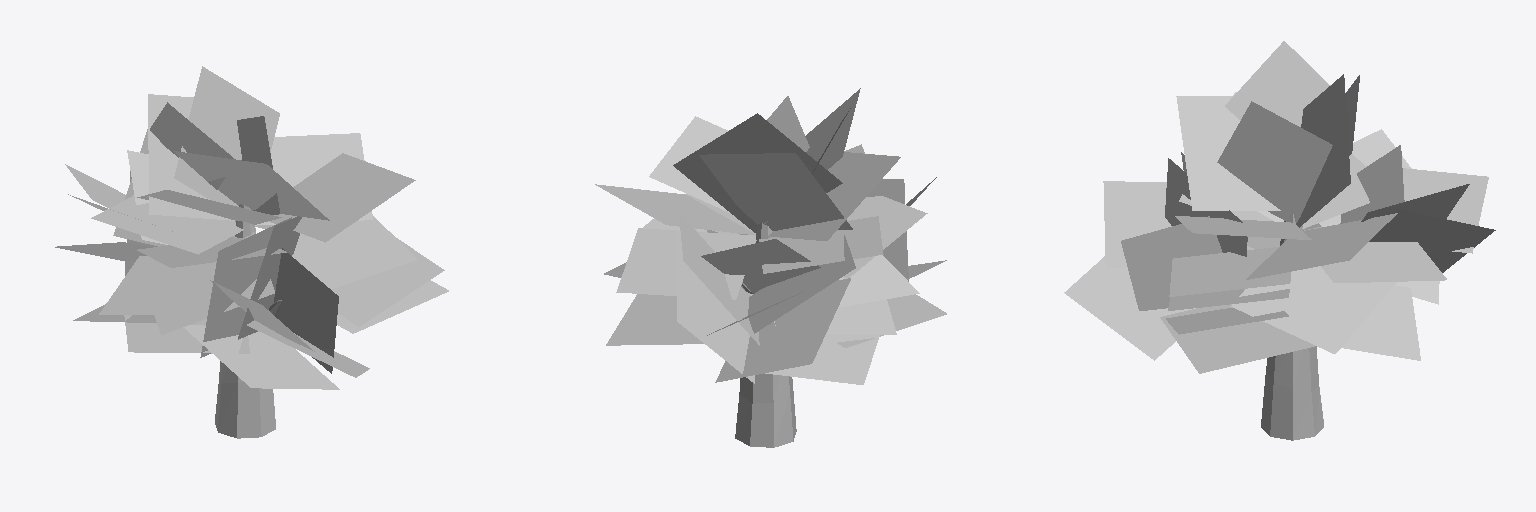
Rendered from Tree_3.obj.
3 renders of one model, left to right at view 1: azimuth 30°, elevation 25°; view 2: azimuth 150°, elevation 25°; view 3: azimuth 270°, elevation 25°, orthographic.
Size of the model in its own units: 22.03 by 23.71 by 26.8.